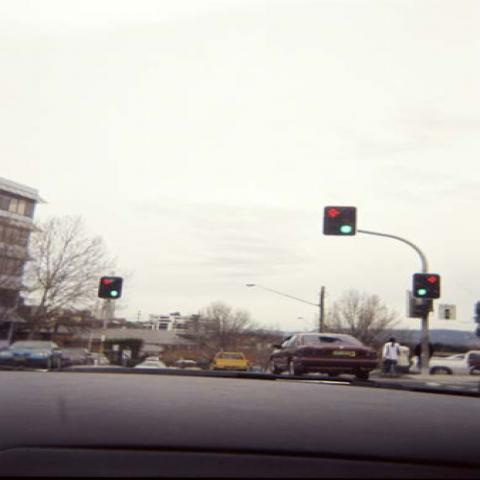car: (269, 333, 380, 380), (0, 340, 63, 369), (423, 351, 468, 377), (209, 352, 252, 373), (59, 347, 98, 366), (101, 353, 110, 365)
